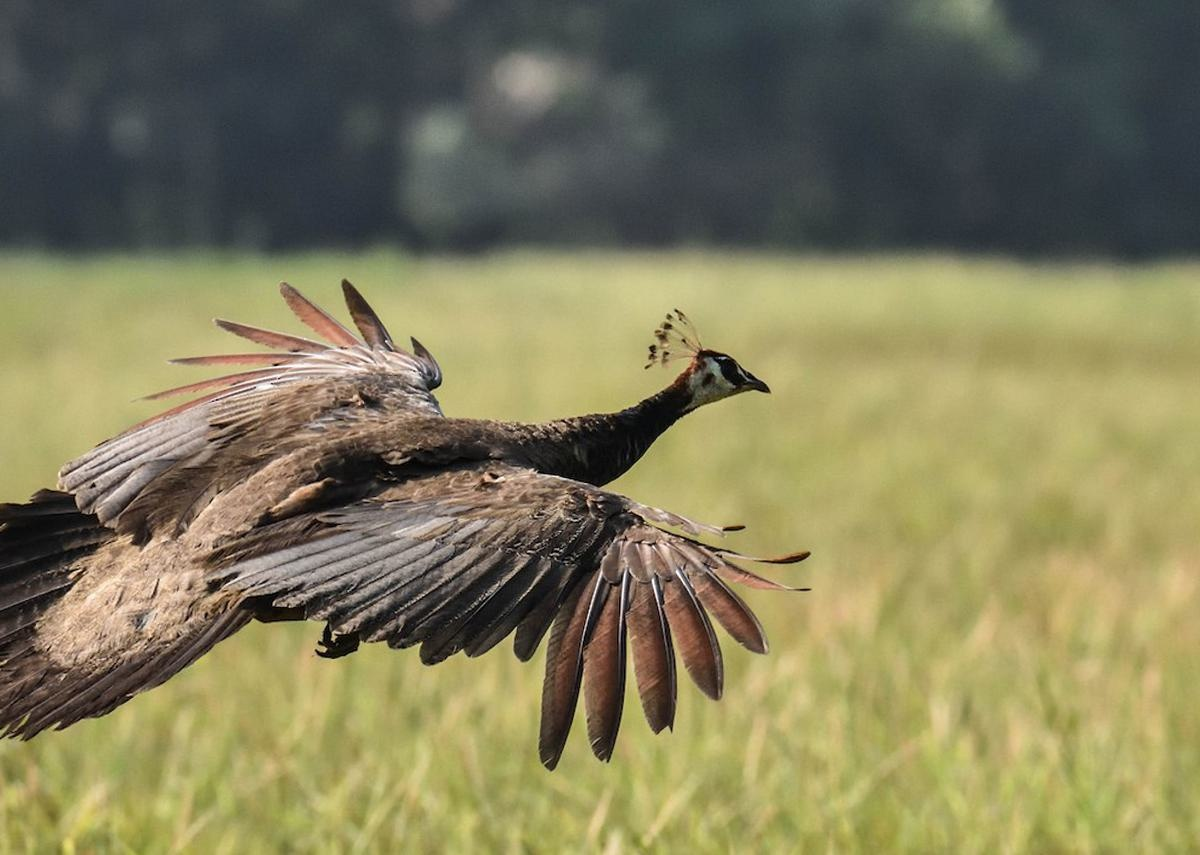peacock: (31, 260, 801, 645)
